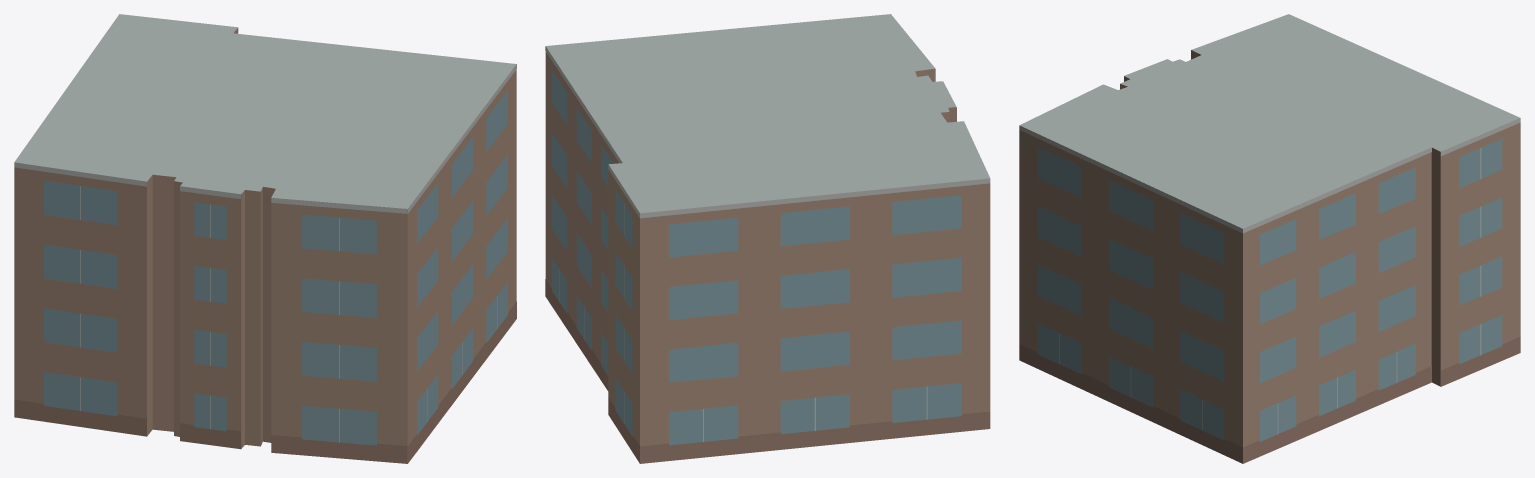
File: survey-upis-32683855.glb
The picture shows the model from 3 angles, left to right: view 1: azimuth 30°, elevation 25°; view 2: azimuth 150°, elevation 25°; view 3: azimuth 270°, elevation 25°; orthographic projection. The views are drawn at different scales.
Visible parts, largest first — view 1: survey-upis-32683855.tmp; view 2: survey-upis-32683855.tmp; view 3: survey-upis-32683855.tmp.
Part boxes in pixels (x1,y1,x2,y2): survey-upis-32683855.tmp: [14, 14, 516, 463]; survey-upis-32683855.tmp: [545, 14, 990, 463]; survey-upis-32683855.tmp: [1019, 14, 1520, 463].
Size of the model in its own units: 24.52 by 12.5 by 24.17.
